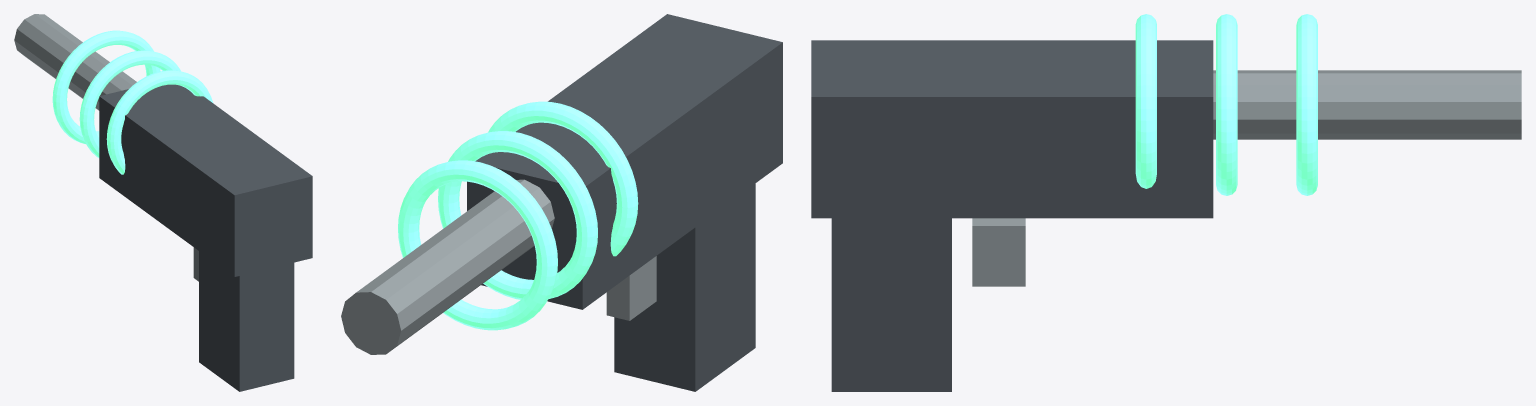
File: raygun.glb
3 renders of one model, left to right at view 1: azimuth 30°, elevation 25°; view 2: azimuth 150°, elevation 25°; view 3: azimuth 270°, elevation 25°, orthographic. The views are drawn at different scales.
Visible parts, largest first — view 1: Body, Grip, Barrel, Coil3, Coil1, Coil2; view 2: Body, Grip, Barrel, Coil3, Coil2, Coil1, Trigger; view 3: Body, Grip, Barrel, Coil2, Coil3, Trigger, Coil1.
Part boxes in pixels (x1,y1,x2,y2): Body: (99, 84, 312, 276); Grip: (199, 251, 294, 391); Barrel: (14, 14, 136, 110); Coil3: (52, 30, 160, 144); Coil1: (106, 70, 213, 174); Coil2: (79, 50, 180, 157); Body: (467, 14, 782, 309); Grip: (614, 183, 755, 391); Barrel: (341, 179, 554, 354); Coil3: (398, 160, 557, 330); Coil2: (438, 131, 597, 299); Coil1: (488, 101, 638, 256); Trigger: (606, 256, 656, 320); Body: (811, 40, 1213, 218); Grip: (831, 218, 951, 391); Barrel: (1213, 70, 1521, 139); Coil2: (1216, 14, 1237, 195); Coil3: (1296, 14, 1317, 195); Trigger: (972, 218, 1025, 286); Coil1: (1135, 14, 1156, 188).
Size of the model in its own units: 0.136 by 0.288 by 0.53.
